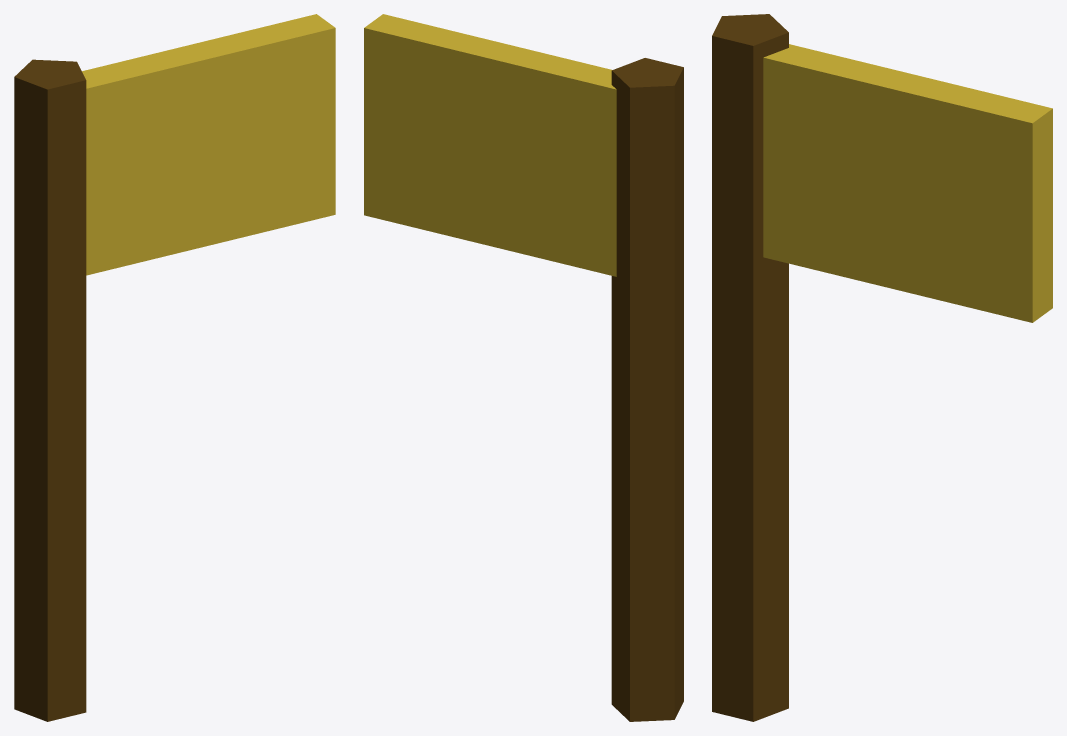
Rendered from mark_flag.glb.
3 views of the same model, side by side, from view 1: azimuth 30°, elevation 25°; view 2: azimuth 150°, elevation 25°; view 3: azimuth 330°, elevation 25° (orthographic). The views are drawn at different scales.
Visible parts, largest first — view 1: mark_flag; view 2: mark_flag; view 3: mark_flag.
Boxes of the visible parts, <box> form: mark_flag: <box>14,14,335,721</box>; mark_flag: <box>364,14,683,721</box>; mark_flag: <box>712,14,1052,721</box>.
Size of the model in its own units: 0.1114 by 0.22 by 0.0217.
